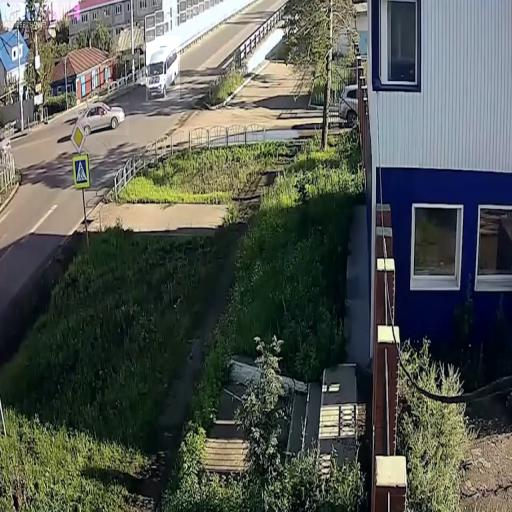小汽车: (146, 36, 180, 101), (77, 103, 129, 135)
